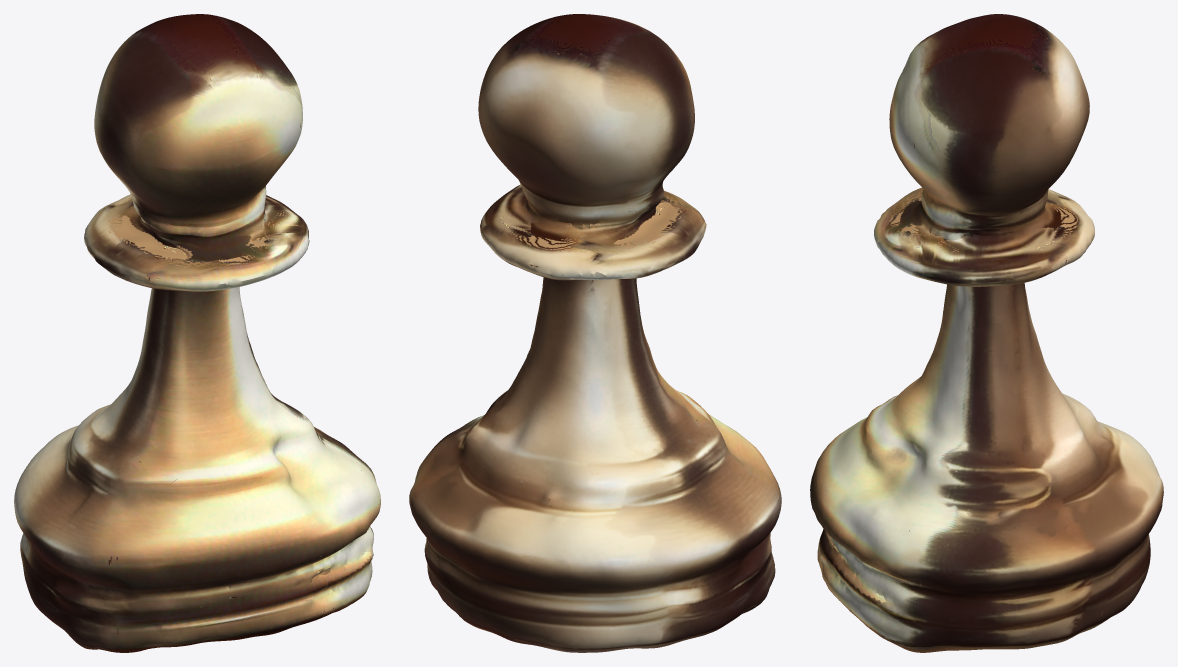
The model's file is PawnModle.fbx.
3 views of the same model, side by side, from view 1: azimuth 30°, elevation 25°; view 2: azimuth 150°, elevation 25°; view 3: azimuth 270°, elevation 25° (orthographic).
Visible parts, largest first — view 1: A simple pawn fo obj-re_2hHvX5ASVtConYsR5wmOknBIxgo; view 2: A simple pawn fo obj-re_2hHvX5ASVtConYsR5wmOknBIxgo; view 3: A simple pawn fo obj-re_2hHvX5ASVtConYsR5wmOknBIxgo.
Boxes of the visible parts, bbox=[...] form: A simple pawn fo obj-re_2hHvX5ASVtConYsR5wmOknBIxgo: bbox=[14, 14, 380, 652]; A simple pawn fo obj-re_2hHvX5ASVtConYsR5wmOknBIxgo: bbox=[409, 14, 781, 652]; A simple pawn fo obj-re_2hHvX5ASVtConYsR5wmOknBIxgo: bbox=[810, 14, 1163, 652].
Bounding box in the file's own units: 82.76 × 142 × 80.06.
Materials: 1 (1 with a texture image).
